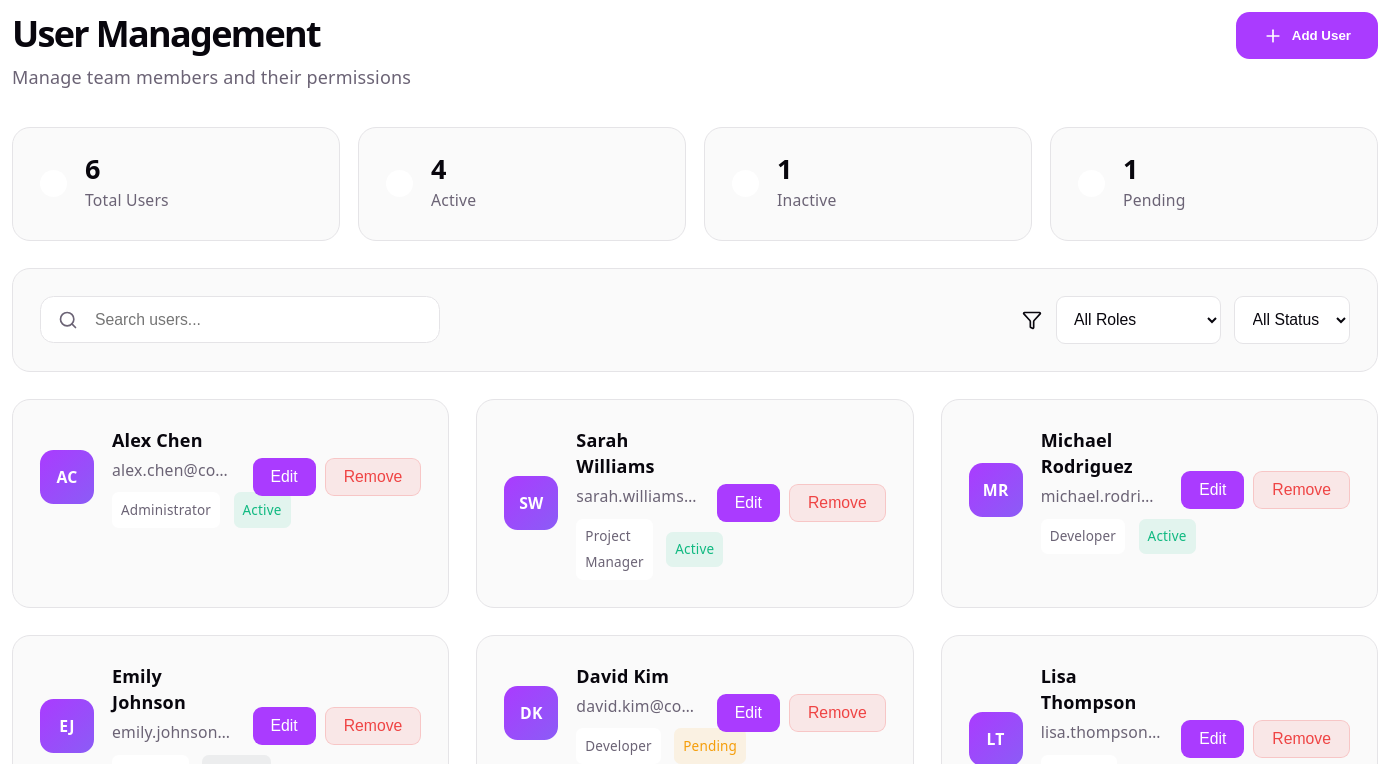
Test: UserManagement › Filter functionality (P0) › filters users by role selection
Select "Developer" in the 1st dropdown at (1138, 320), box [1056, 296, 1220, 344]
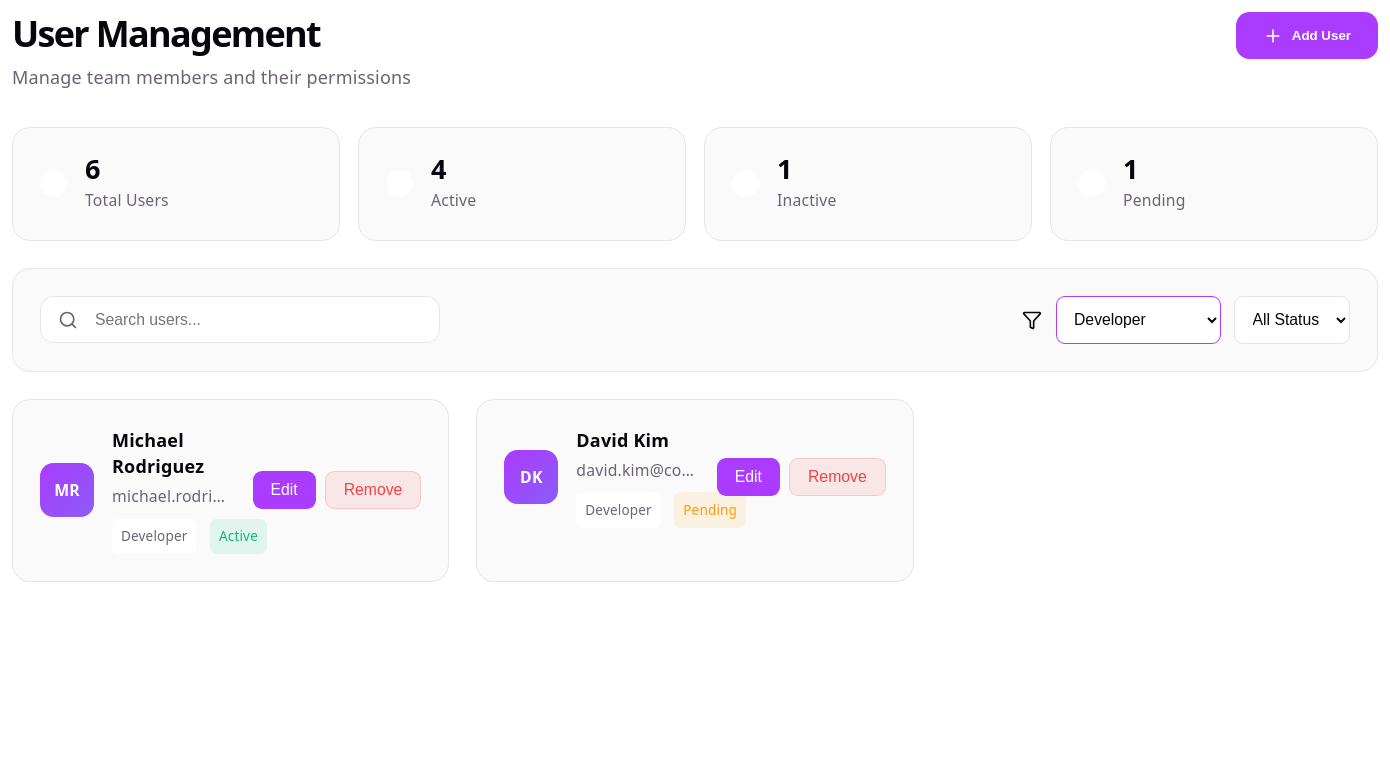
Now the heading "Alex Chen" is gone
Now the heading "Sarah Williams" is gone
Now the heading "Emily Johnson" is gone
